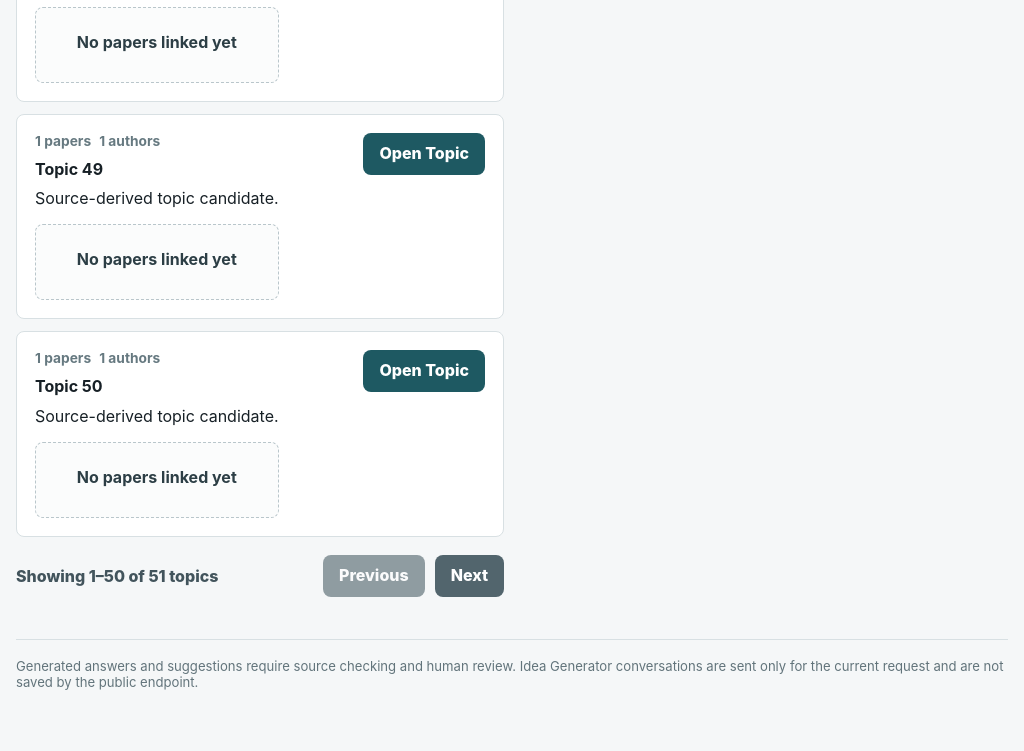
it: route-based application shell › pages through the complete public topic result set
This screenshot has width=1024, height=751.
(page scrolled)
Expected: the text "Showing 1–50 of 51 topics" is shown, [16,566,218,586]
Click the button "Next". click: x=469, y=576
box: [435,555,504,597]
(page scrolled)
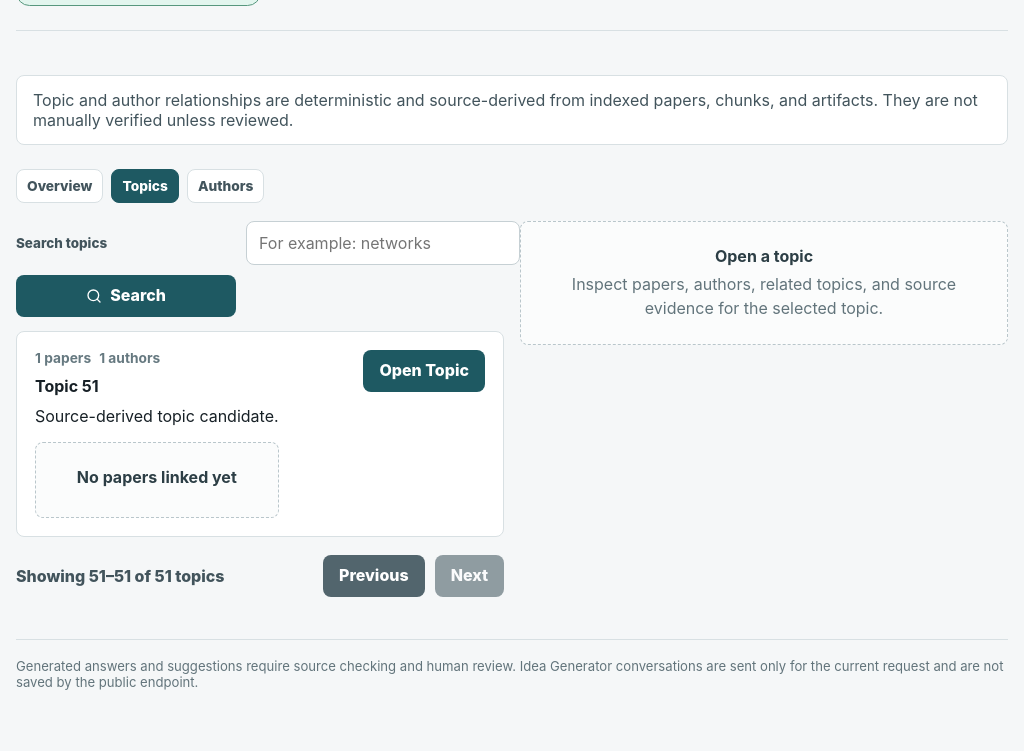
Expected: the text "Showing 51–51 of 51 topics" is shown, [16,566,224,586]
Expected: the heading "Topic 51" is shown, [35,376,99,396]
